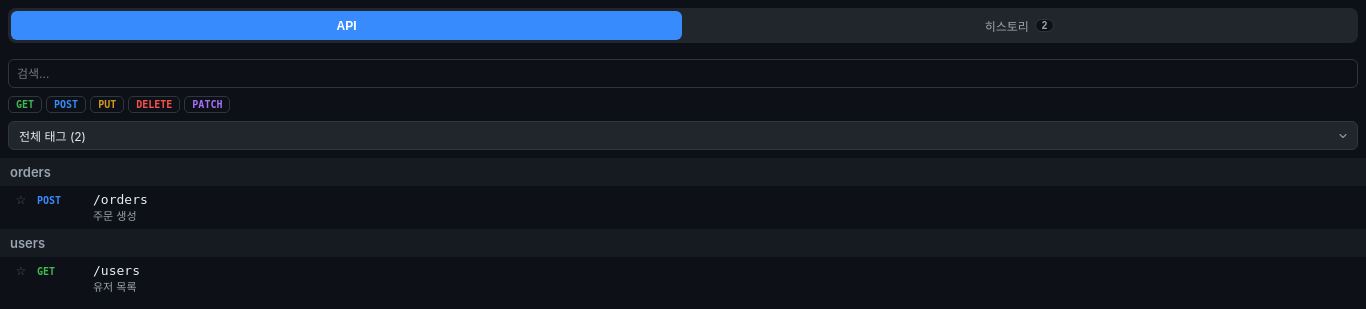
Test: Sidebar - 히스토리 탭 › 히스토리 항목과 탭 배지를 표시한다
Expected: the text "2" is shown, [1035,19,1054,32]
What coordinates should you click on to do the following:
click the button "히스토리 2"
I would click on:
 (1020, 26)
Its box is [684,11,1355,40].
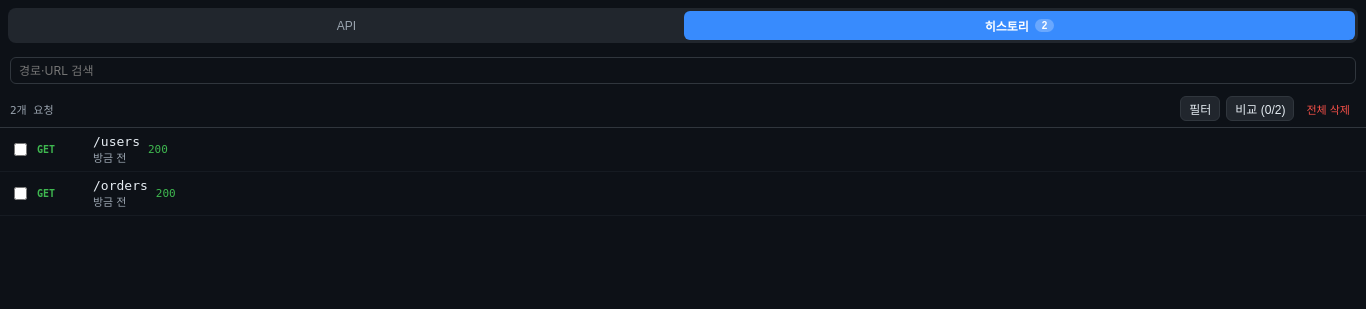
Expected: the text "2개 요청" is shown, [10,100,54,116]
